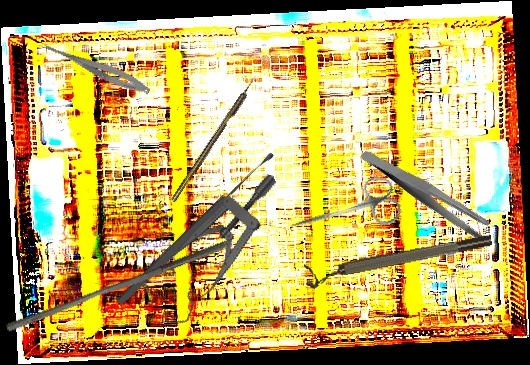Dressing Forceps: (359, 121, 499, 269)
Fixation Ring: (303, 231, 495, 290)
Hook Surgical: (169, 74, 260, 204)
Iris Scissors: (283, 171, 404, 253)
Micro Scissor: (35, 38, 153, 98)
Pusher: (5, 231, 229, 340)
Speculum: (121, 170, 315, 334)
Surgical Spoon: (114, 149, 278, 308)
